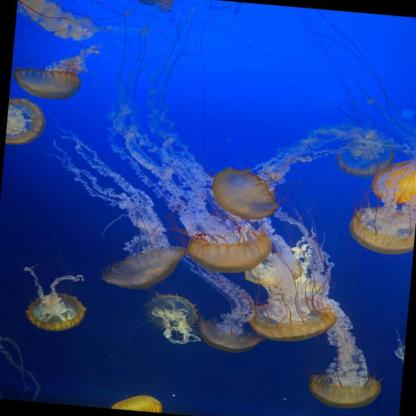jellyfish: (246, 294, 339, 346), (103, 239, 188, 294), (188, 224, 274, 277), (209, 166, 281, 222), (347, 204, 415, 258), (307, 369, 381, 411), (24, 290, 86, 333), (11, 66, 82, 102), (197, 318, 265, 355), (370, 156, 416, 208), (5, 96, 46, 148), (143, 293, 197, 332), (336, 146, 394, 180), (111, 392, 163, 412), (123, 0, 180, 9)
